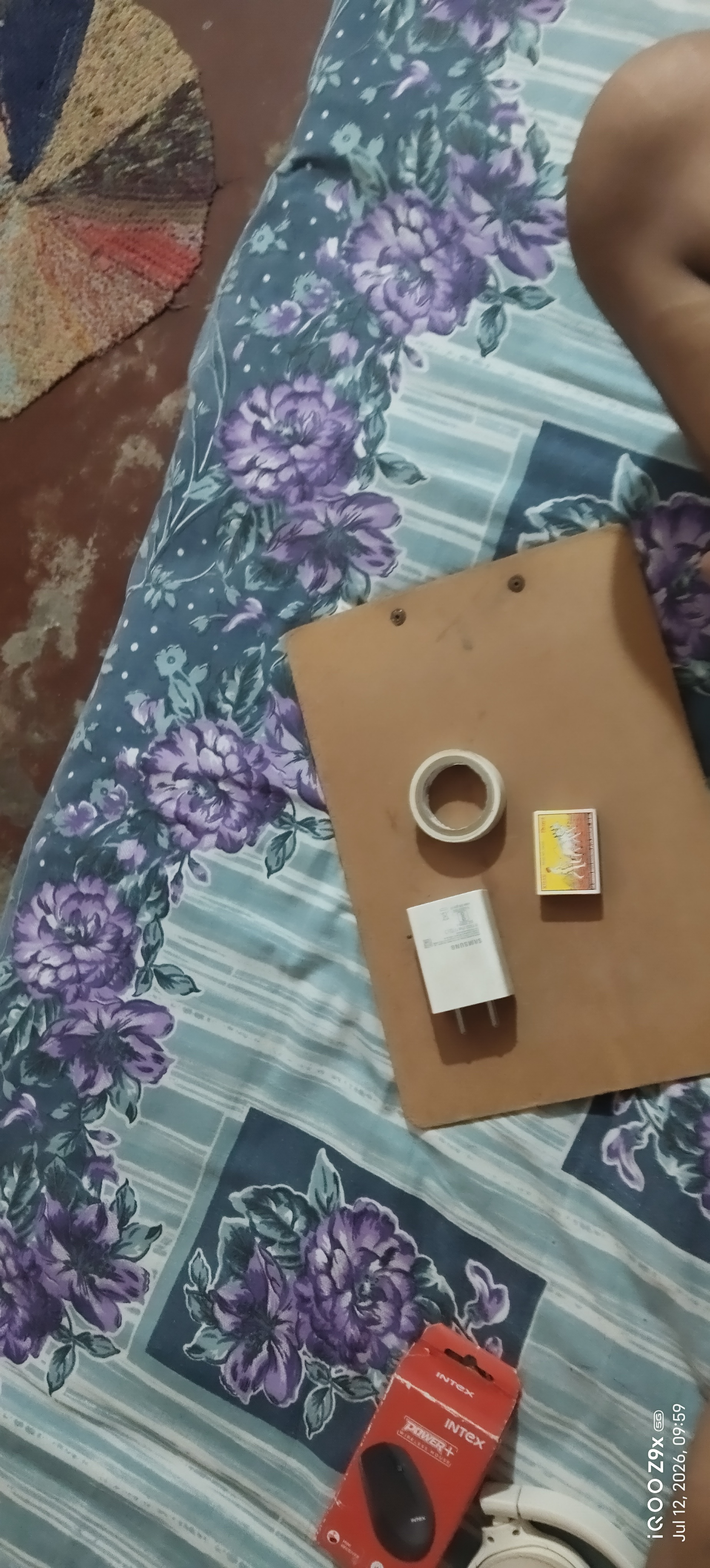charger: (400, 882, 524, 1039)
matchbox: (529, 803, 606, 903)
tape_roll: (400, 740, 513, 854)
